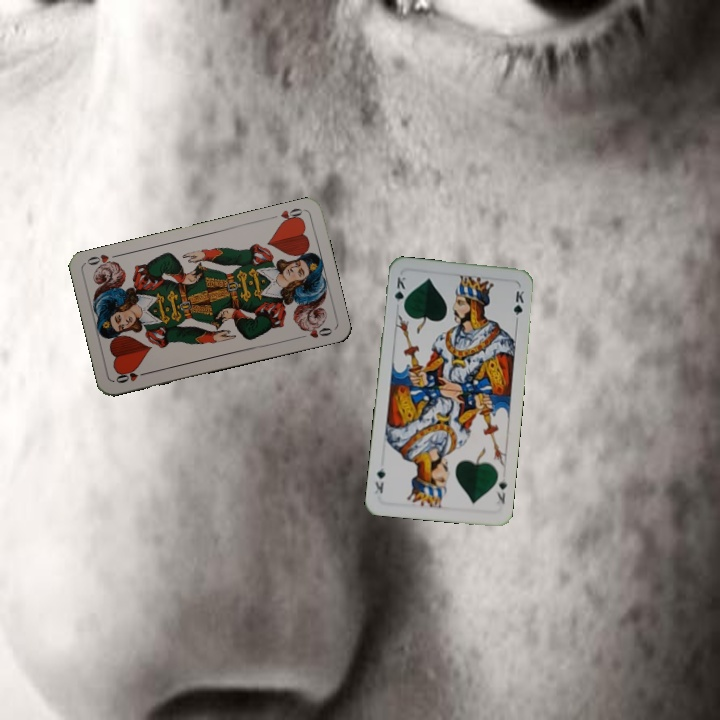GK: (390, 273, 408, 312), (492, 474, 509, 507)
HO: (112, 366, 151, 386), (276, 204, 306, 227)
